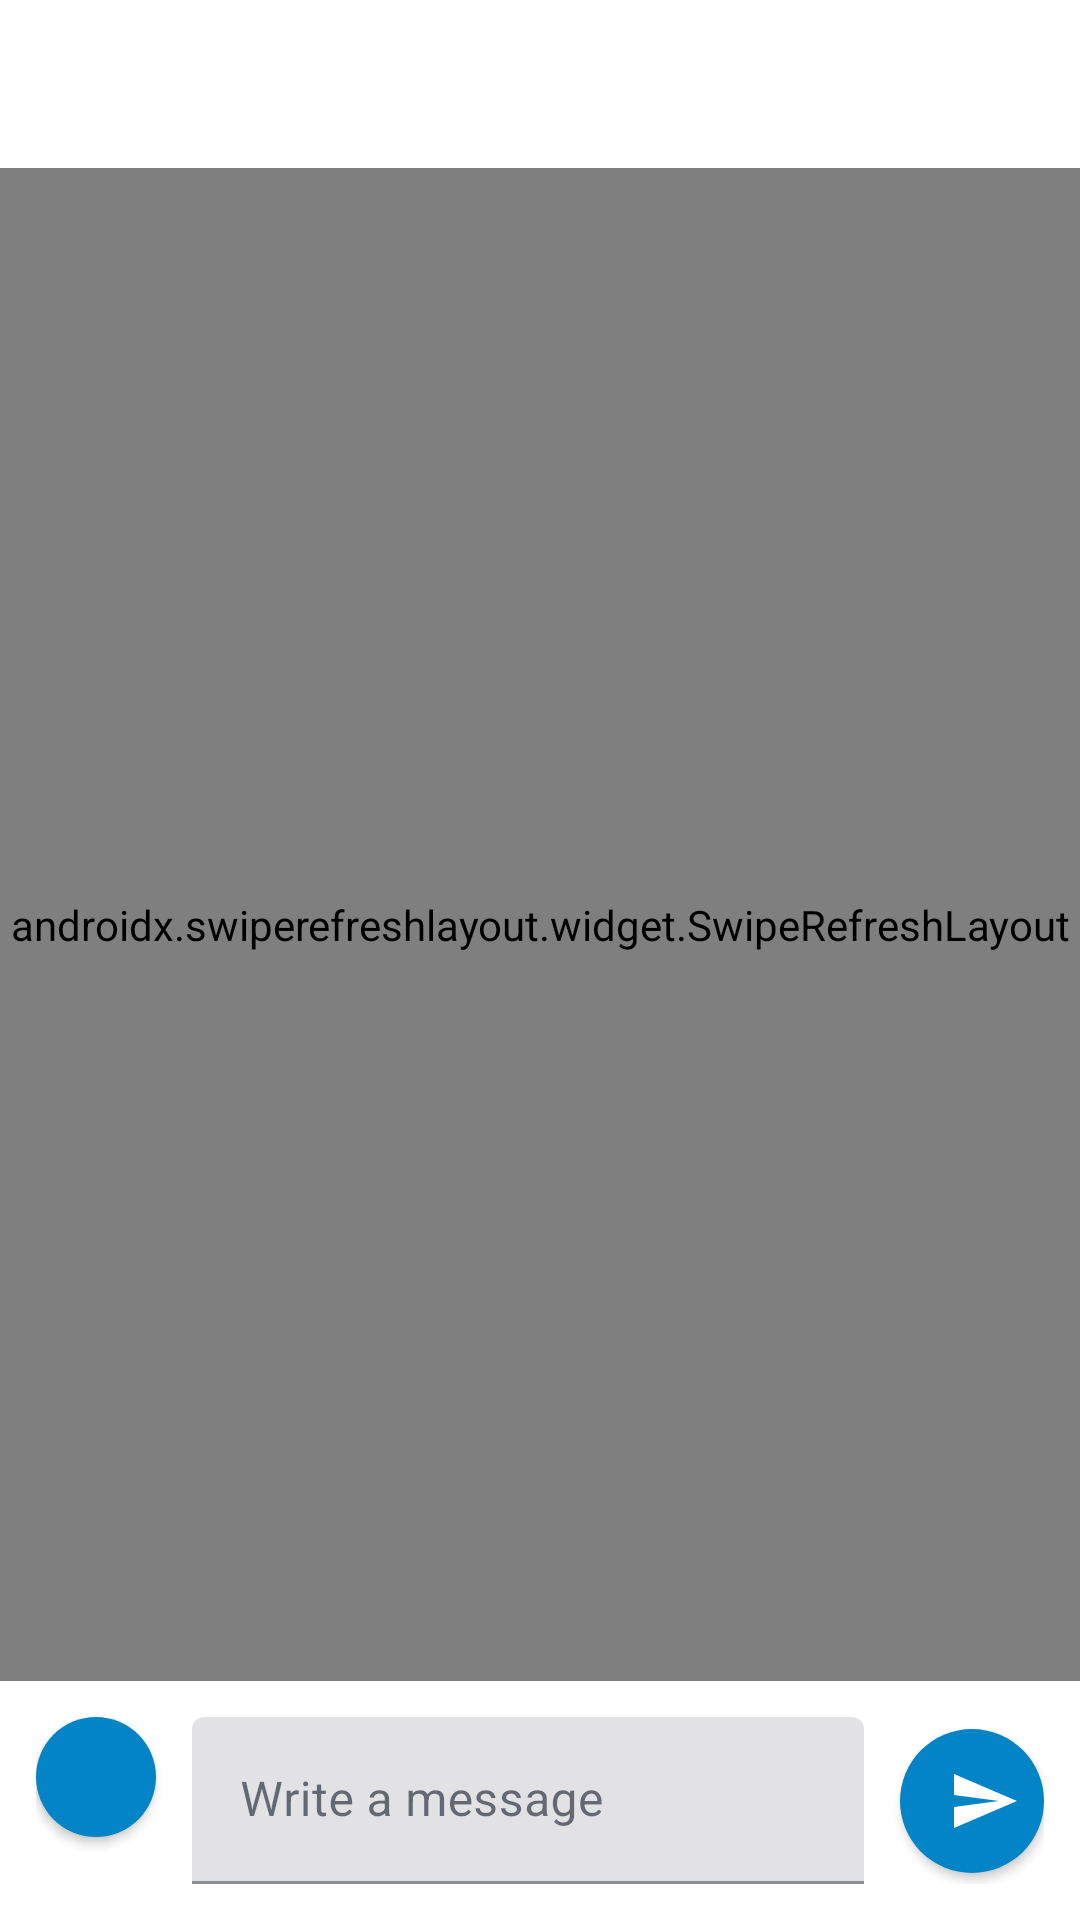

Screen size 1080 x 1920. Icon name, then its box in pixels as (left=x1, top=y1, right=x2, bottom=y2):
Send: (left=900, top=1729, right=1044, bottom=1873)
